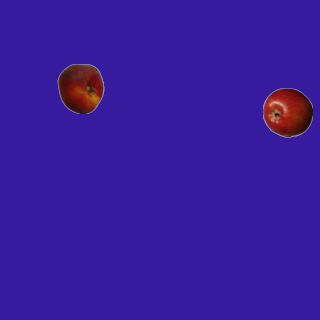Apple Braeburn: (262, 87, 312, 137)
Nectarine Flat: (55, 63, 105, 113)
